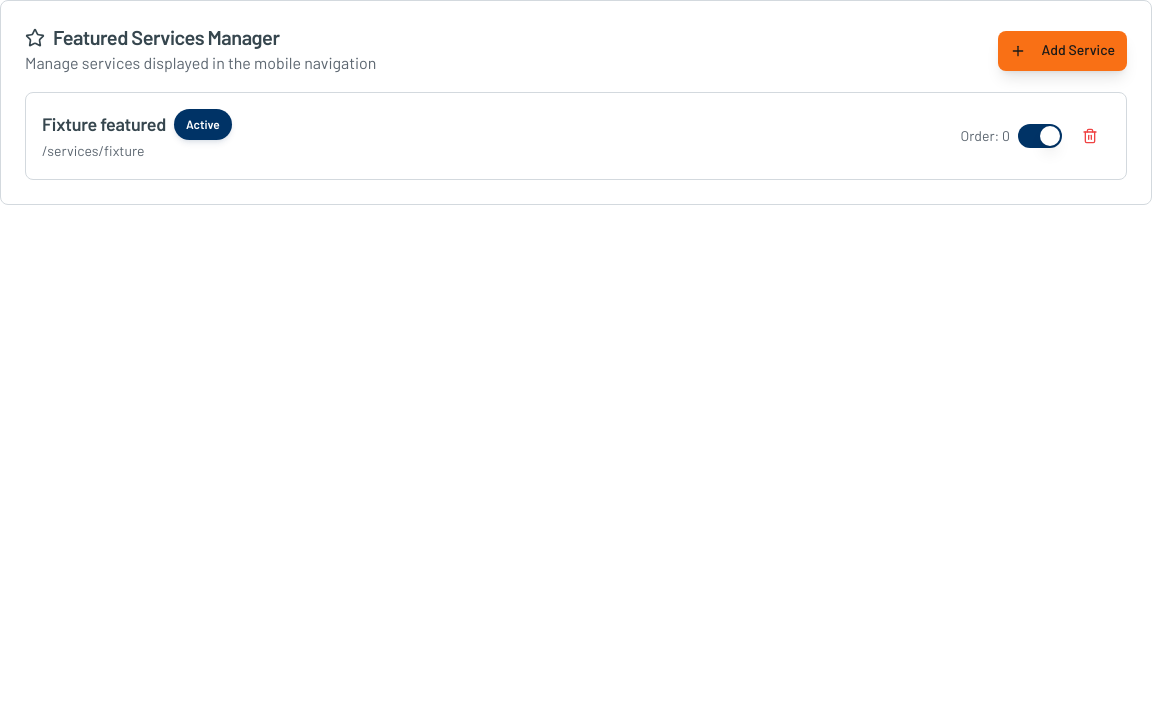
Test: admin delete confirmation › requires confirmation and supports cancellation for featured services
The width and height of the screenshot is (1152, 720).
Later steps or results of the test are not shown.
Click the button named "Delete Fixture featured" at (1090, 136), box [1070,116,1110,156]
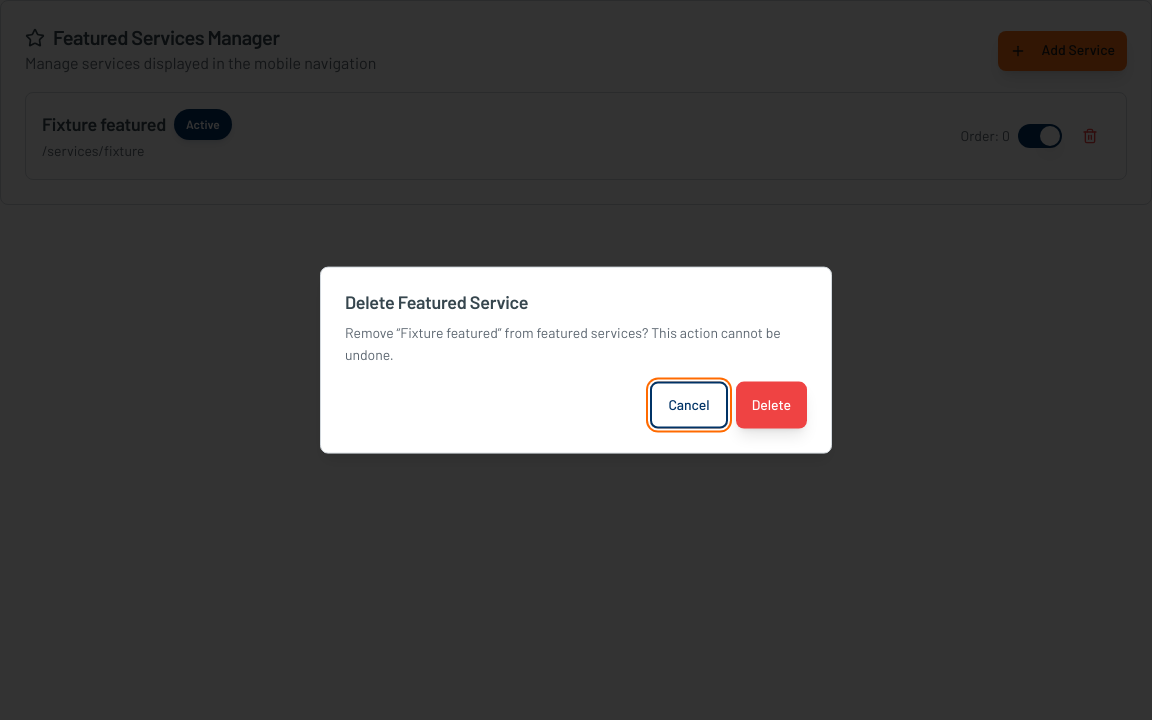
Check: the dialog is shown, box [320,267,832,453]
Click the button "Cancel" at (689, 405), box [650,382,728,428]
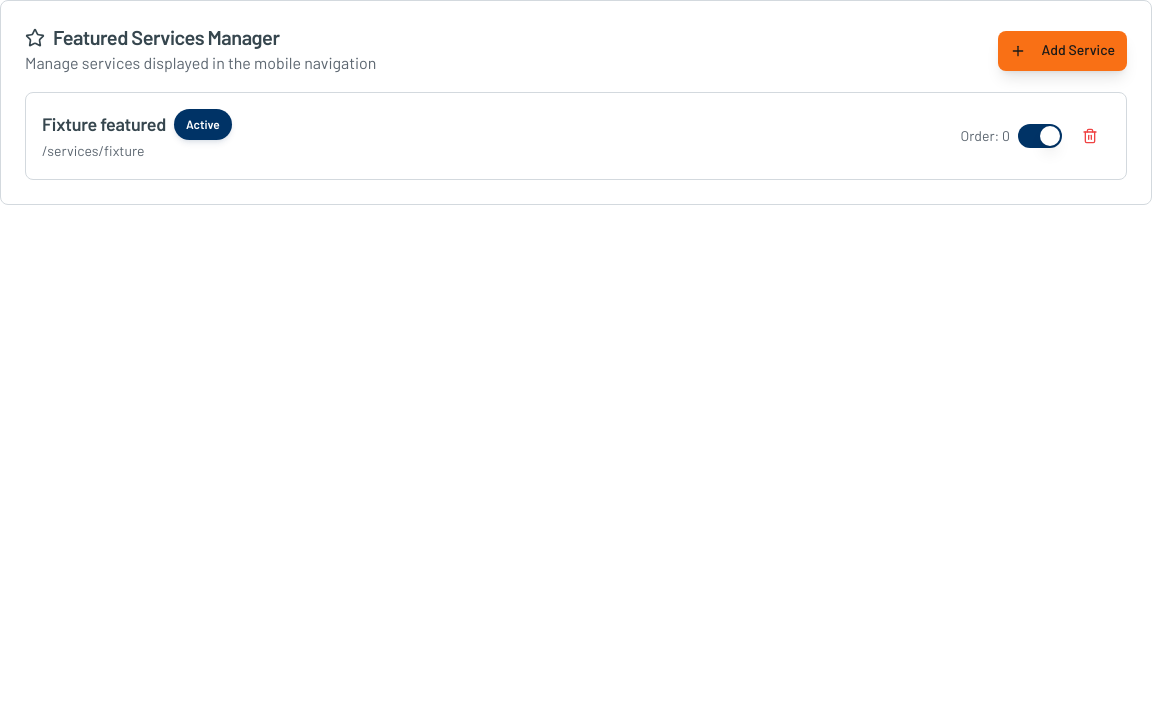
Check: the dialog is gone
